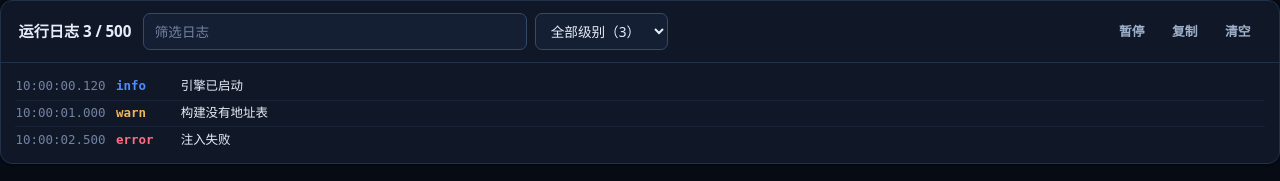
Test case: LogPanel › counts each level into the level dropdown
Select "error（1）" in the dropdown named "日志级别" at (602, 32), box [535,13,668,50]
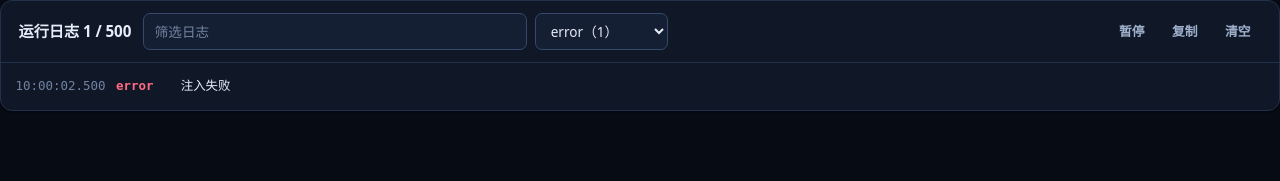
Expected: the list with test id "log-list" shows "注入失败", [181,78,231,93]
Expected: the number of list items is 1, [15,78,231,93]
